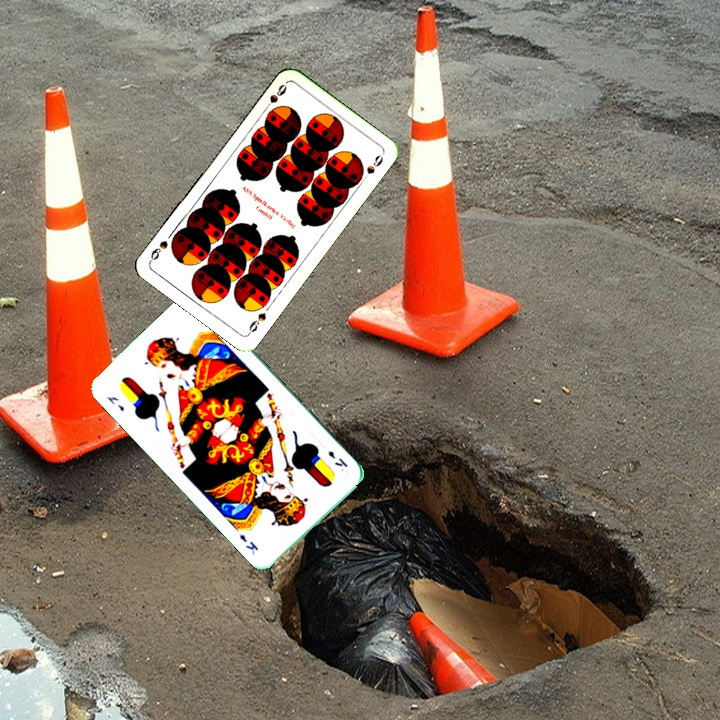EK: (324, 447, 350, 470), (103, 392, 127, 414)
S9: (260, 80, 290, 114), (244, 309, 269, 337)
